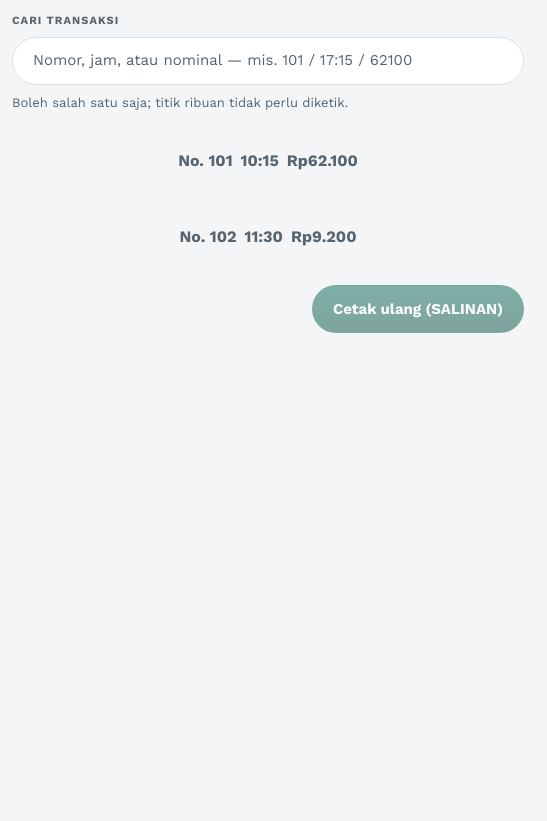
it: DaftarTransaksi — cetak ulang › pratinjau struk SUDAH bertanda SALINAN, bukan hanya hasil cetaknya
The image size is (547, 821).
Click the button with aria-label "Lihat struk No. 101".
click(268, 161)  # box top-left (20, 133), bottom-right (516, 189)
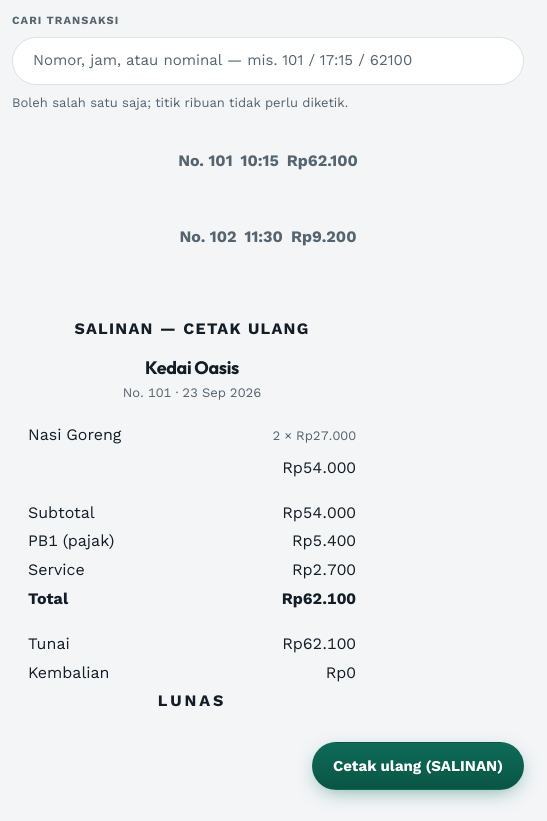
Expected: the text with test id "struk-salinan" shows "SALINAN", top-left (74, 319), bottom-right (310, 338)
